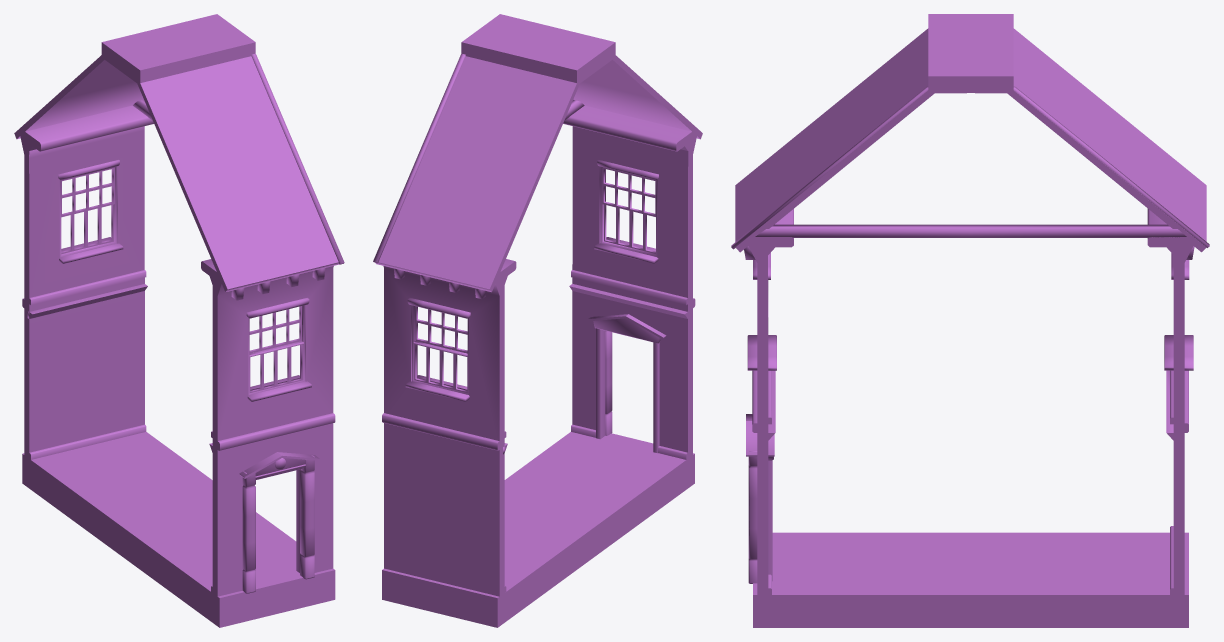
The model's file is BrickHouse_Mid_C.fbx.
3 renders of one model, left to right at view 1: azimuth 30°, elevation 25°; view 2: azimuth 150°, elevation 25°; view 3: azimuth 270°, elevation 25°, orthographic. The views are drawn at different scales.
Visible parts, largest first — view 1: BrickHouse_Mid_C; view 2: BrickHouse_Mid_C; view 3: BrickHouse_Mid_C.
Boxes of the visible parts, x1=… form: BrickHouse_Mid_C: x1=14, y1=14, x2=344, y2=627; BrickHouse_Mid_C: x1=373, y1=14, x2=702, y2=627; BrickHouse_Mid_C: x1=731, y1=14, x2=1209, y2=627.
Size of the model in its own units: 4 by 16.52 by 12.98.
